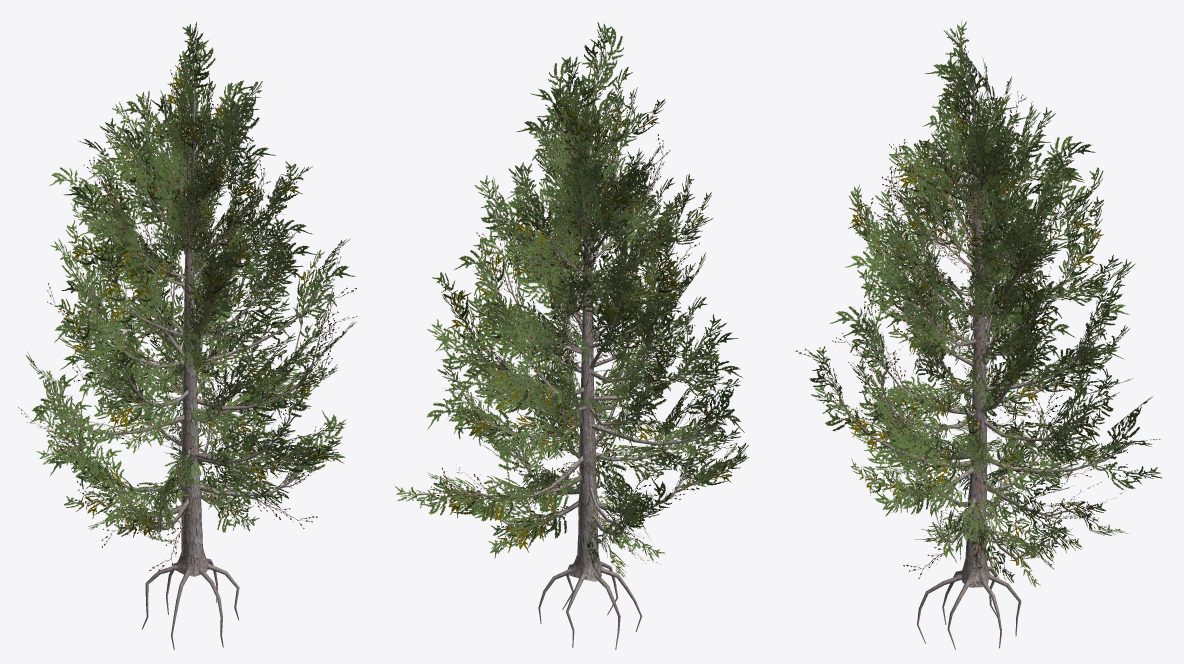
The model's file is SM_Larch_.fbx.
The picture shows the model from 3 angles, left to right: view 1: azimuth 30°, elevation 25°; view 2: azimuth 150°, elevation 25°; view 3: azimuth 270°, elevation 25°; orthographic projection.
Parts seen in each view (by area): view 1: Larch_LOD1; view 2: Larch_LOD1; view 3: Larch_LOD1.
Part boxes in pixels (x1,y1,x2,y2): Larch_LOD1: [18, 21, 357, 649]; Larch_LOD1: [395, 22, 749, 649]; Larch_LOD1: [795, 20, 1162, 649].
Size of the model in its own units: 1069 by 1091 by 1925.
